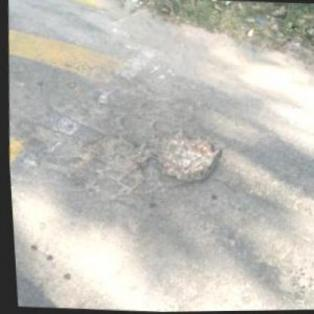Hueco: (146, 129, 225, 190), (78, 132, 151, 177)
